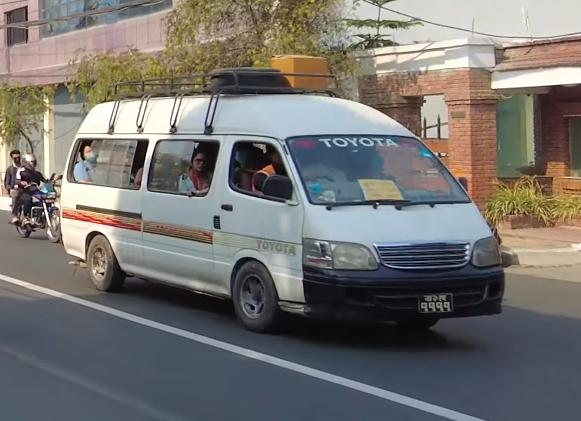bike: (5, 174, 69, 244)
micro_bus: (58, 64, 512, 342)
